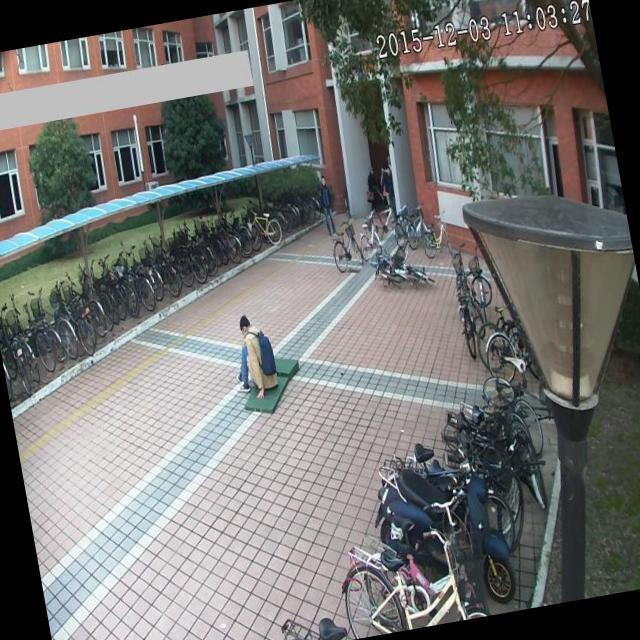person: (220, 304, 285, 409), (310, 170, 342, 240)
